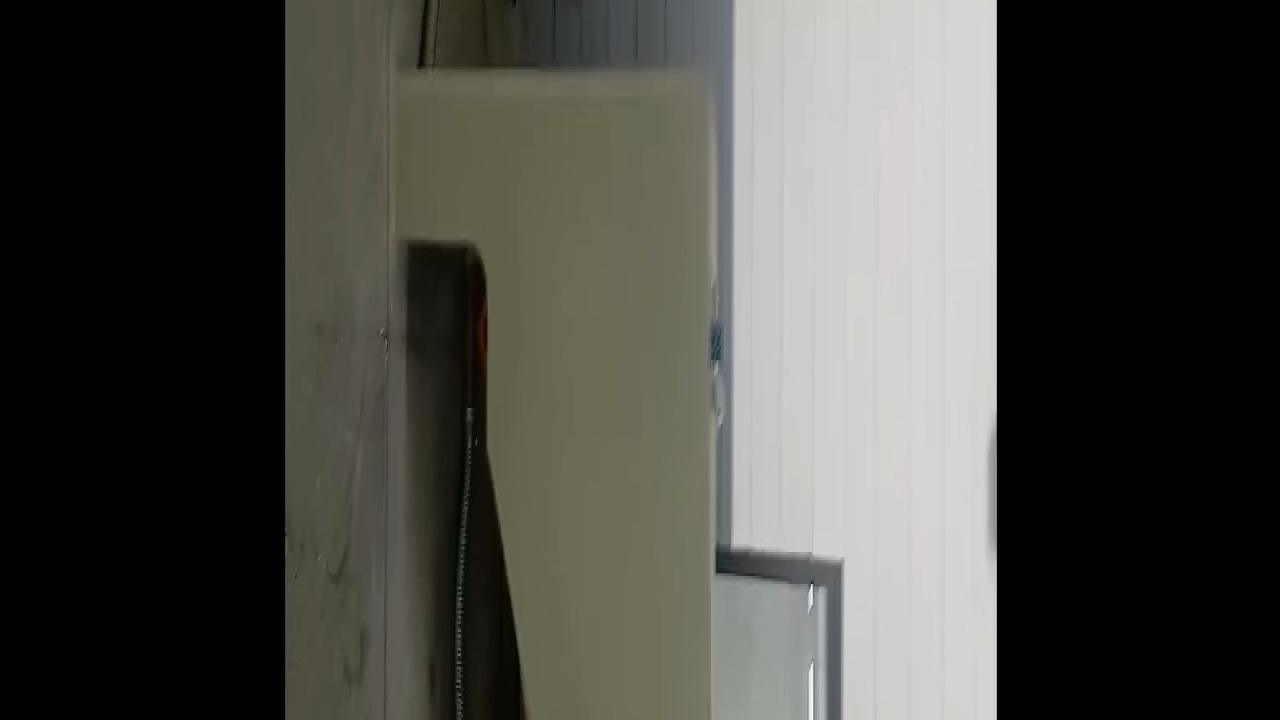Cube: (709, 318, 724, 365)
